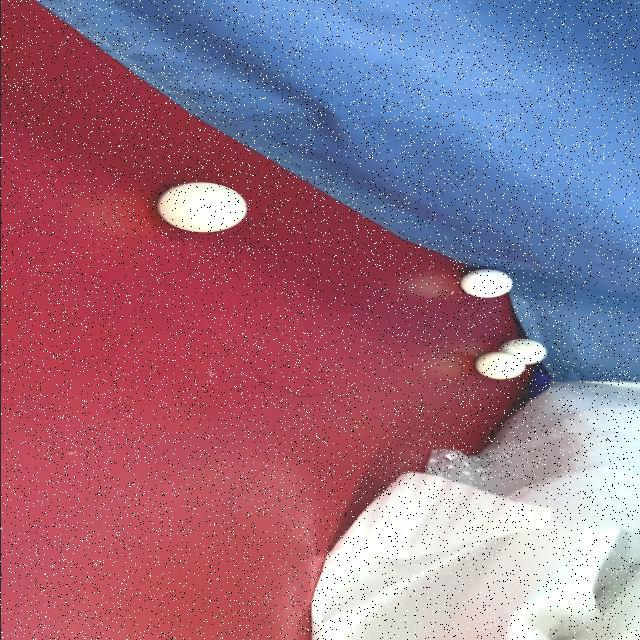ping-pong-ball: (156, 181, 250, 235), (456, 268, 516, 299), (472, 350, 528, 380)
